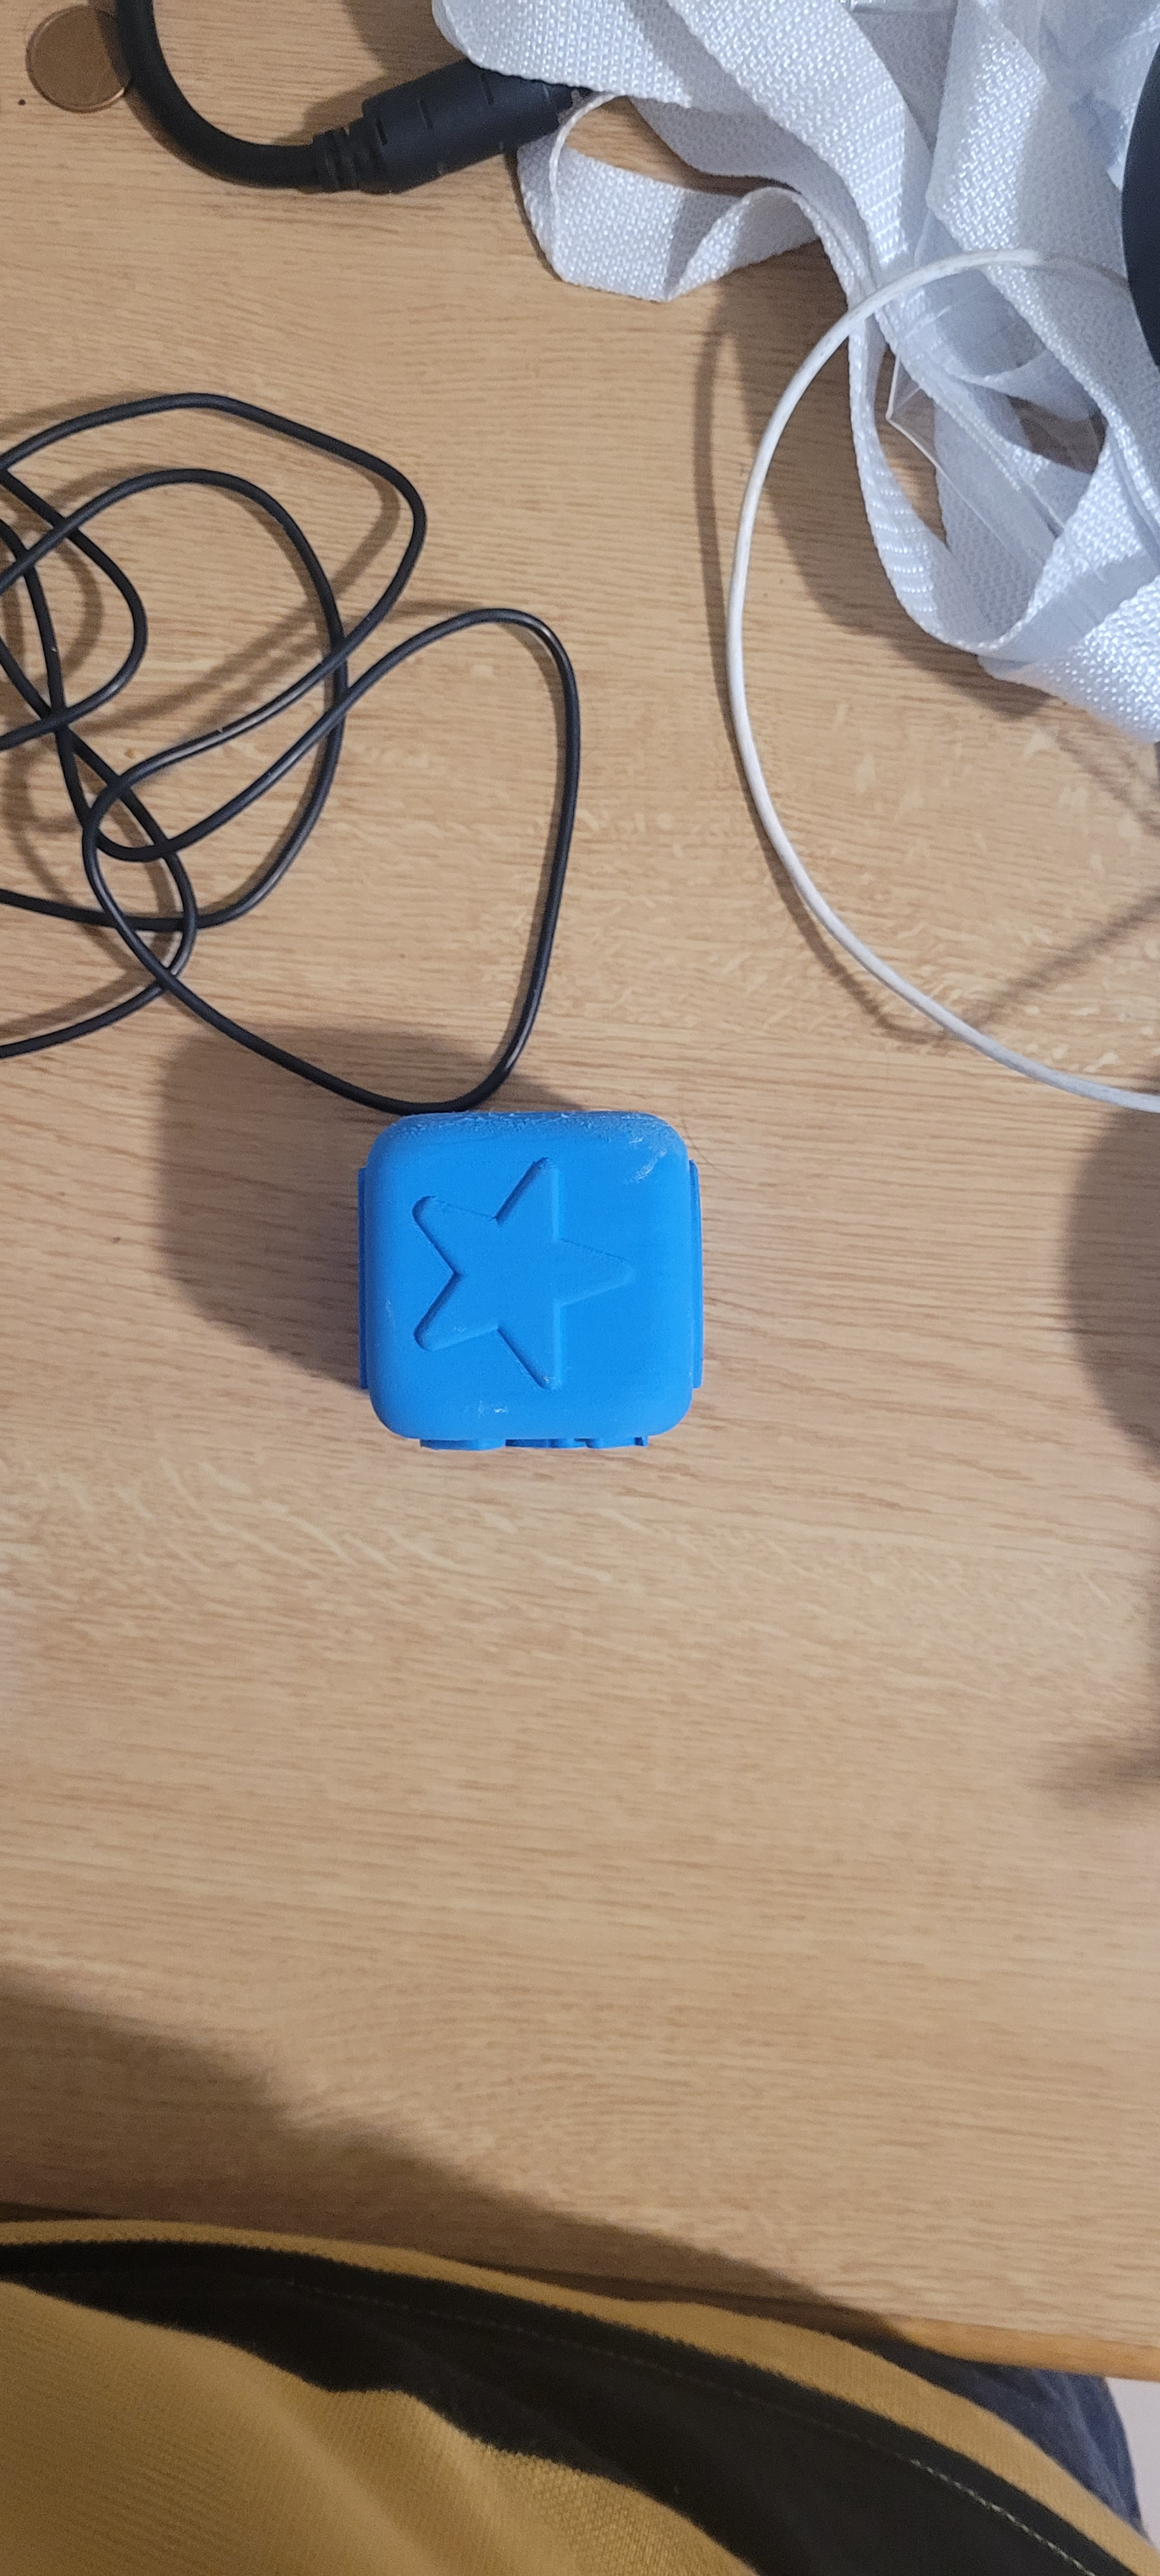Star: (384, 1166, 679, 1406)
